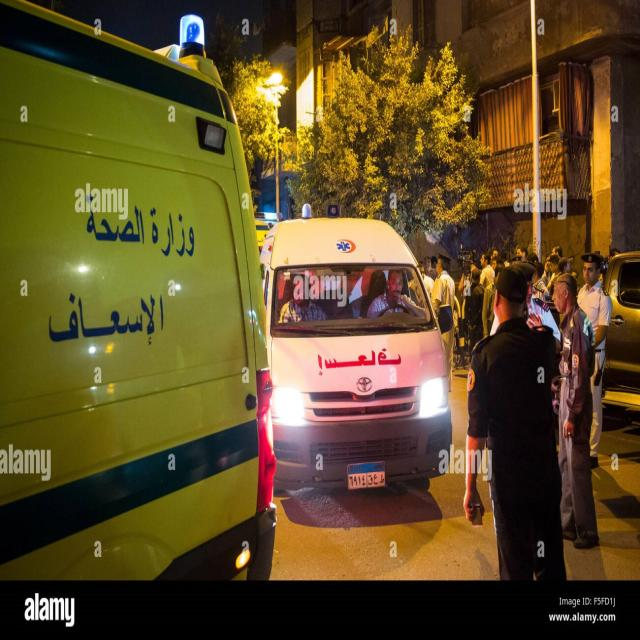Ambulance: (0, 0, 277, 582), (258, 202, 454, 494)
person: (463, 264, 567, 581), (550, 273, 599, 548), (576, 252, 612, 469), (431, 254, 457, 392), (366, 269, 426, 319), (278, 273, 328, 323)
